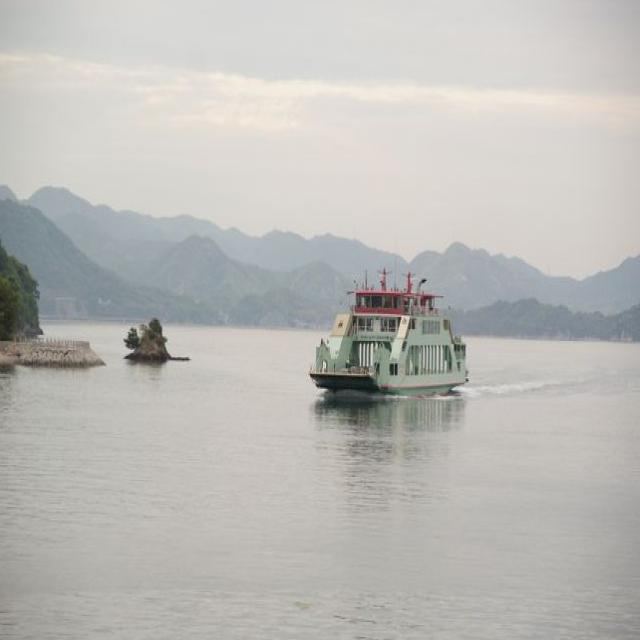houseboat: (308, 259, 476, 393)
